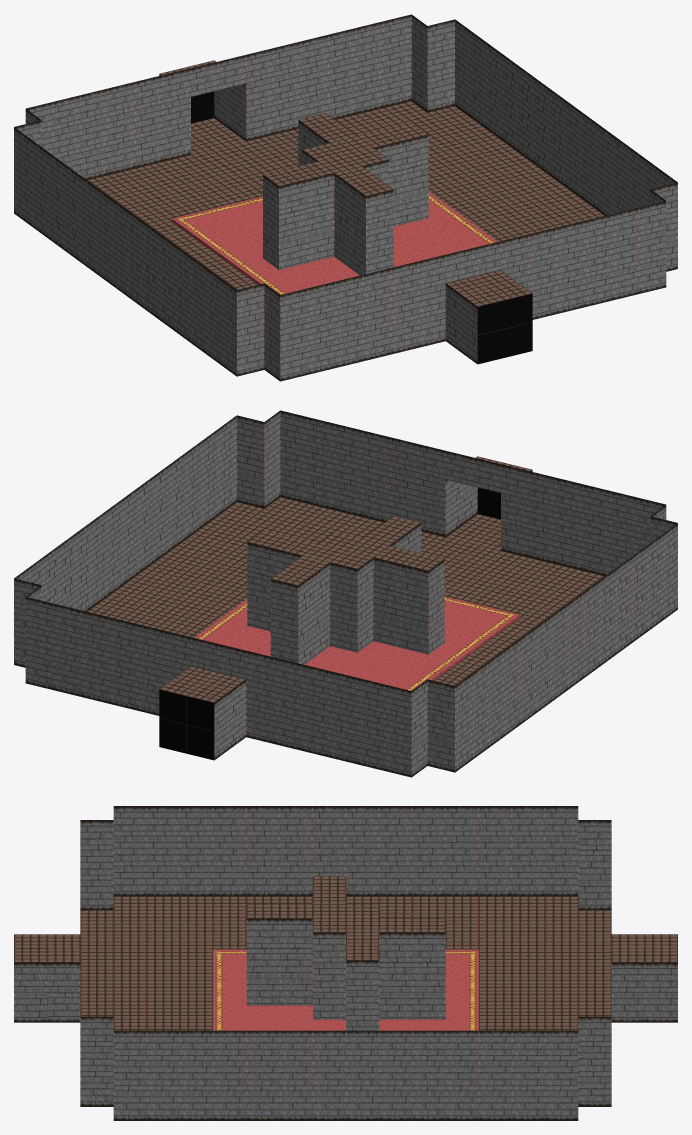
File: spamality.glb
The picture shows the model from 3 angles, top to bottom: view 1: azimuth 30°, elevation 25°; view 2: azimuth 150°, elevation 25°; view 3: azimuth 270°, elevation 25°; orthographic projection. The views are drawn at different scales.
Visible parts, largest first — view 1: scene; view 2: scene; view 3: scene.
Part boxes in pixels (x1,y1,x2,y2): scene: [14, 14, 677, 381]; scene: [14, 410, 677, 777]; scene: [14, 806, 677, 1120].
Size of what is drawn, in the model's own units: 16 by 3 by 20.
Materials: 1 (1 with a texture image).
